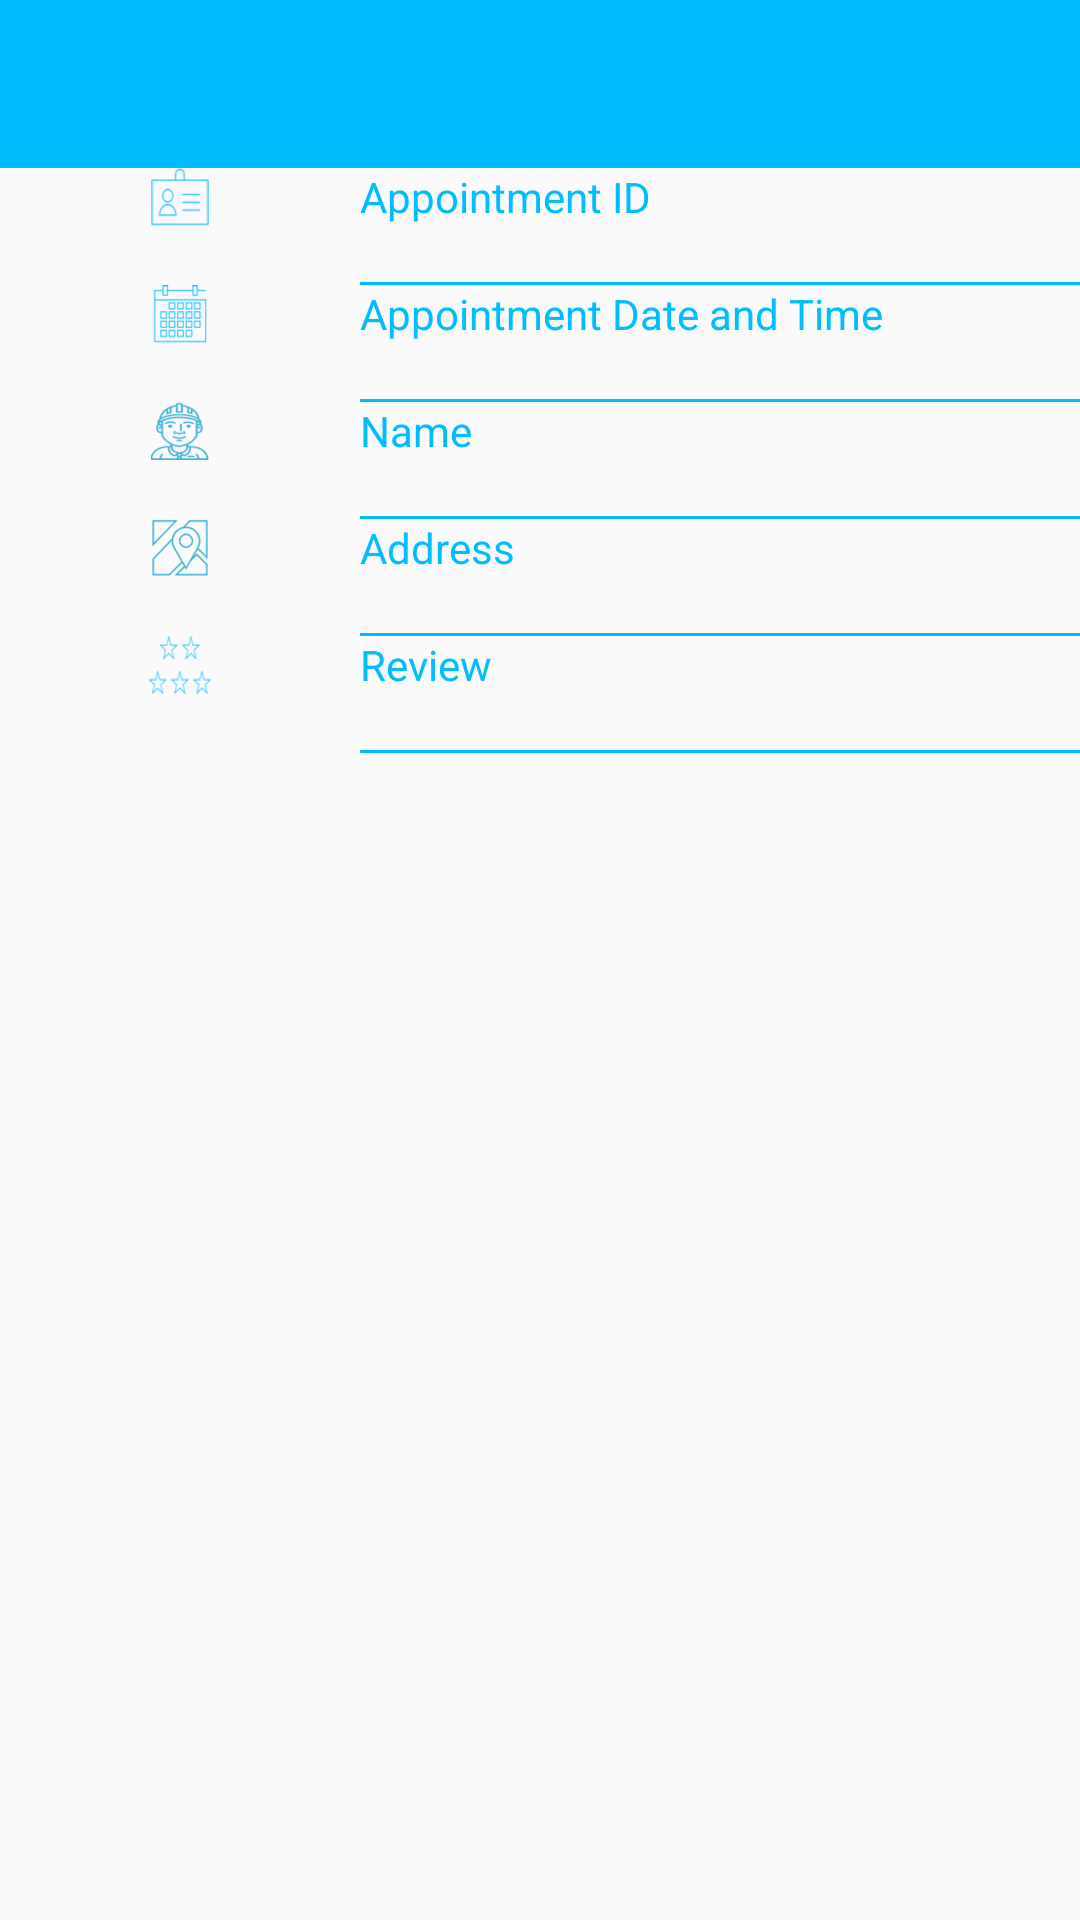

Icon click points for this 1080x1920 phone screenshot, format (x,y):
book dt: (180,314)
book id: (180,197)
